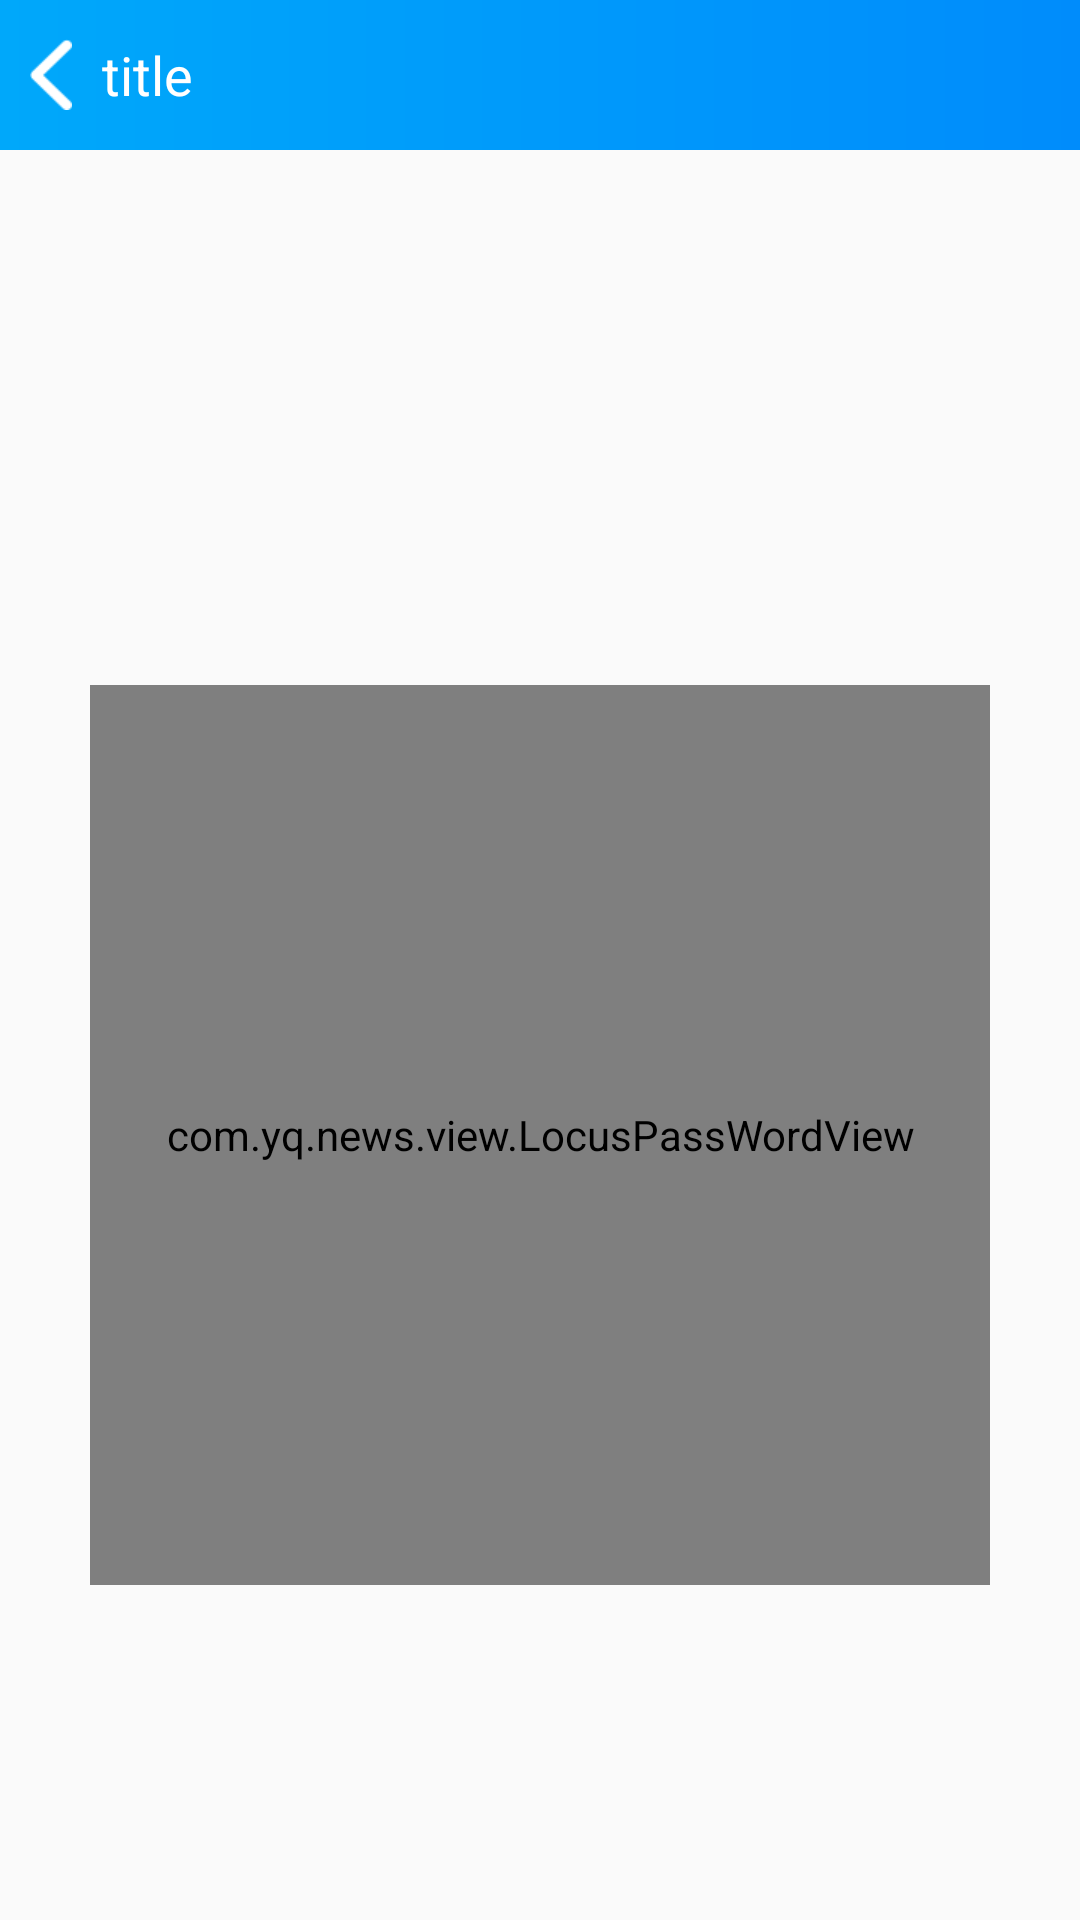

Icon bounding boxes for this 1080*1920 phone screenshot, format [x1=x1, y1=y1, x2=x2, y2=y2]:
back: [x1=30, y1=40, x2=72, y2=110]
